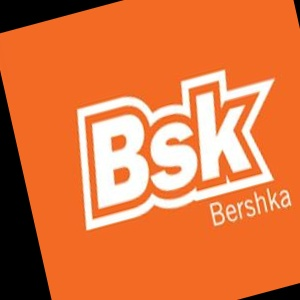bershka: (234, 3, 300, 102)
